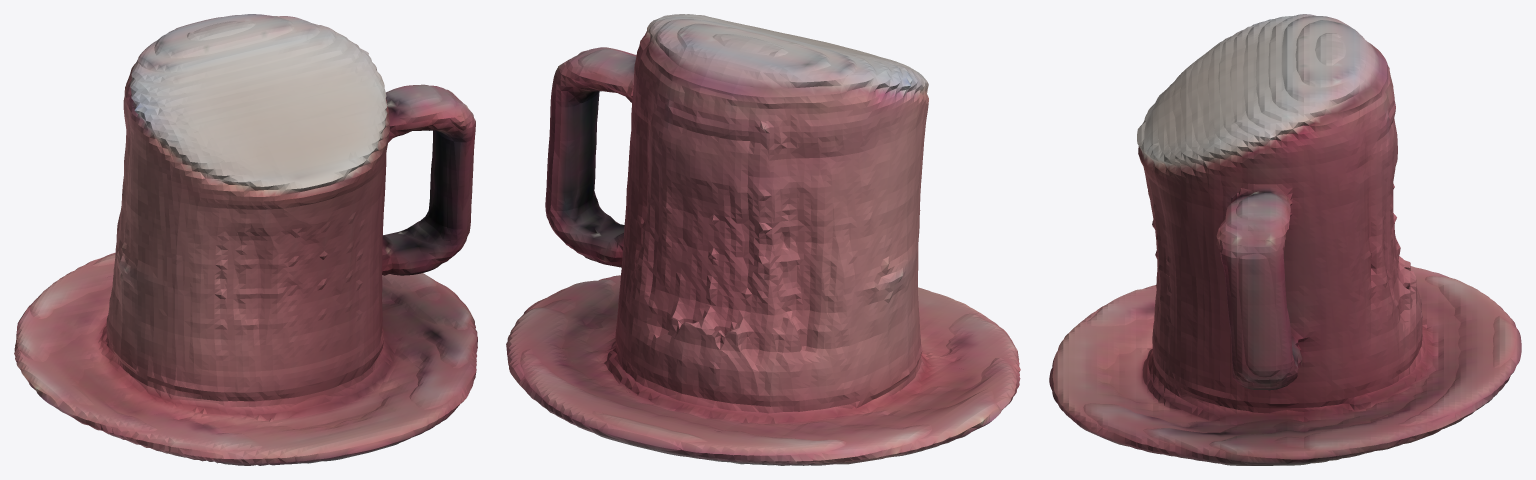
The picture shows the model from 3 angles, left to right: view 1: azimuth 30°, elevation 25°; view 2: azimuth 150°, elevation 25°; view 3: azimuth 270°, elevation 25°; orthographic projection. The views are drawn at different scales.
Parts seen in each view (by area): view 1: mesh.obj; view 2: mesh.obj; view 3: mesh.obj.
Part boxes in pixels (x1=…): mesh.obj: x1=14, y1=14, x2=477, y2=465; mesh.obj: x1=506, y1=14, x2=1020, y2=465; mesh.obj: x1=1049, y1=14, x2=1521, y2=465.
Bounding box in the file's own units: 1.24 × 1 × 1.21.
